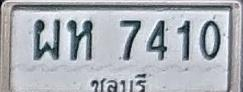0: (200, 19, 220, 60)
1: (177, 20, 190, 60)
4: (146, 19, 167, 60)
7: (120, 19, 142, 60)
A28: (34, 18, 60, 60)
A41: (67, 19, 93, 60)
CBI: (87, 71, 151, 92)
